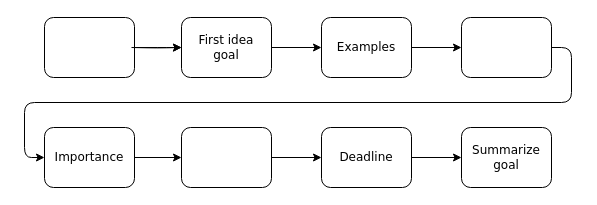
Image size: 597x205. Some labels were removed from this diagram. The shapes that lost their labels are listed below. From the top down, each one's box as (x1, y1, x2, y2) in pixels, then its label:
(44, 16, 134, 78): Introduction
(460, 16, 552, 78): Goal
(180, 126, 272, 188): Achievability
